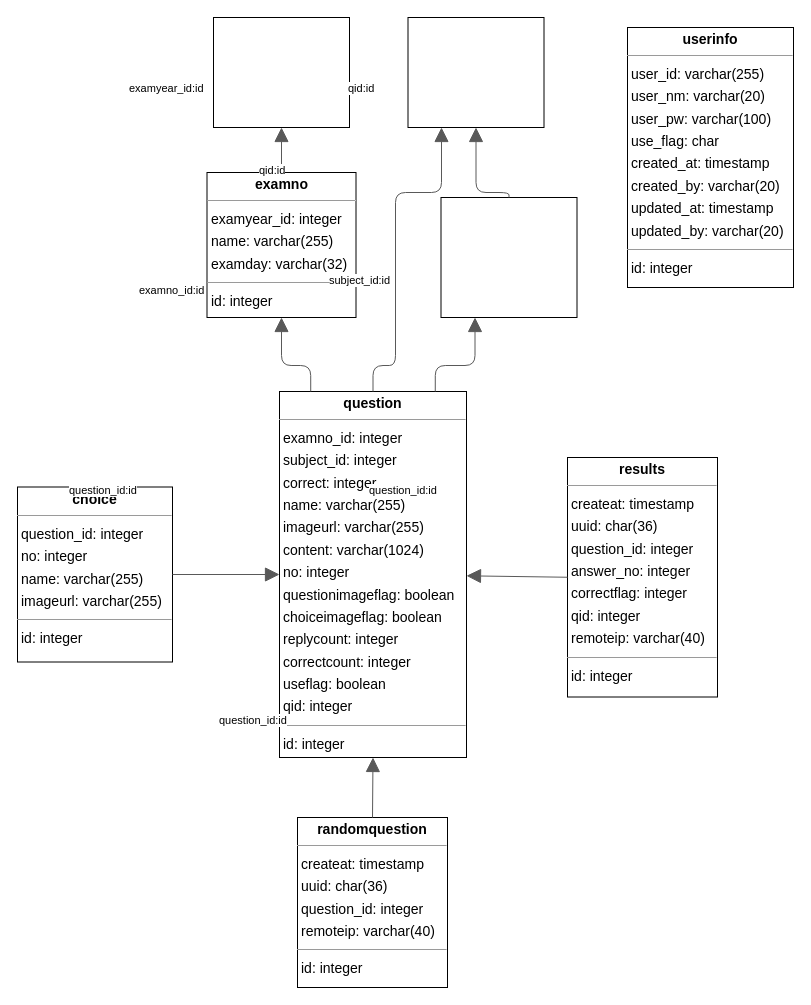
Image size: 811x1005. Some labels were removed from this diagram. The centre of each missing label's shape, as x and y in pixels:
"examyear name: varchar(255) id: integer" goes at point (281, 72).
"qname name: varchar(128) id: integer" goes at point (475, 72).
"subject name: varchar(255) qid: integer id: integer" goes at point (508, 257).
